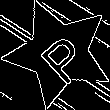P_NW: (28, 22, 90, 84)
